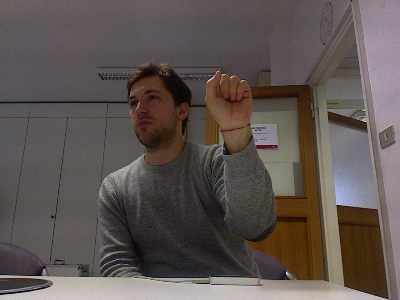石头: (202, 68, 254, 130)
